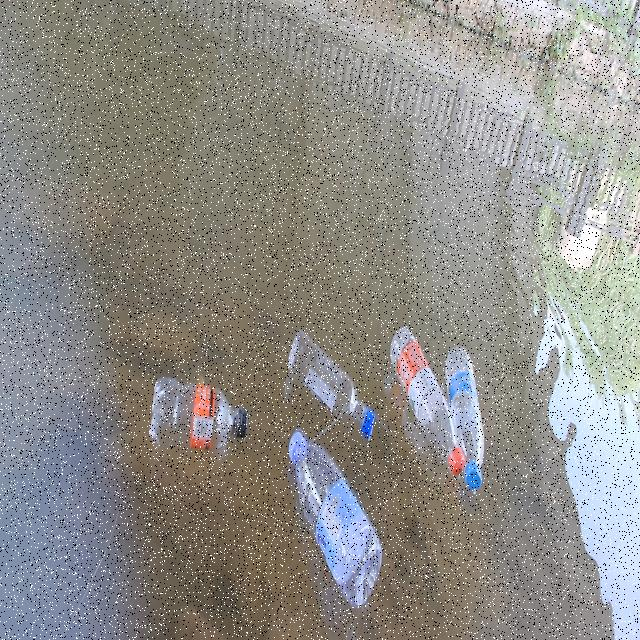Bottle: (286, 429, 382, 610), (389, 323, 466, 478), (285, 322, 377, 434), (148, 374, 250, 454), (445, 333, 484, 494)
